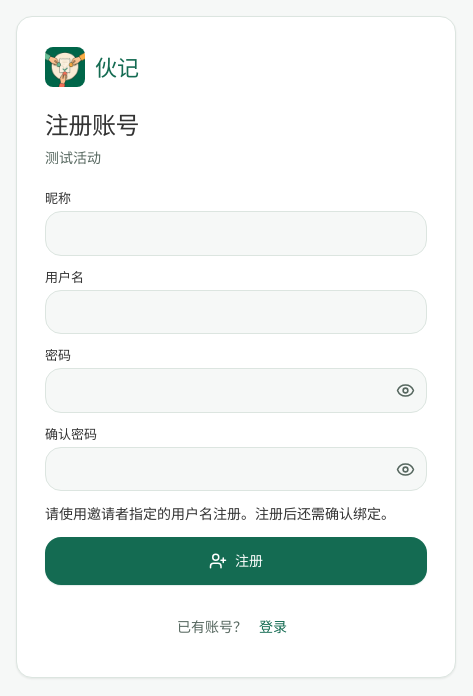
Test: 注册策略与邀请续接 › 绑定邀请注册后仍由用户确认绑定
Type "新成员" into the field labelled "昵称".
click(236, 233); type("新成员")  # box [45,211,427,256]
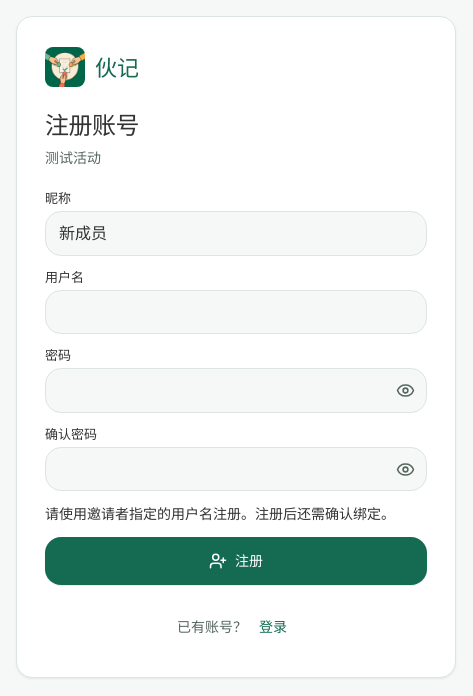
Type "new-user" into the field labelled "用户名".
click(236, 312); type("new-user")  # box [45,290,427,334]
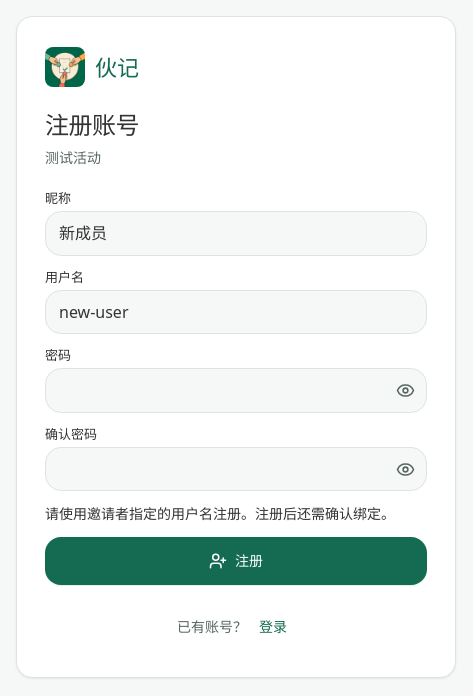
Type "password123" into the password field labelled "密码".
click(236, 391); type("password123")  # box [45,368,427,413]
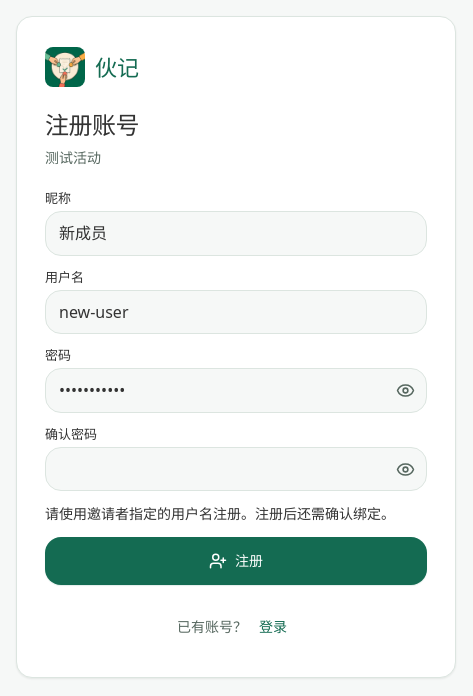
Type "password123" into the password field labelled "确认密码".
click(236, 469); type("password123")  # box [45,447,427,491]
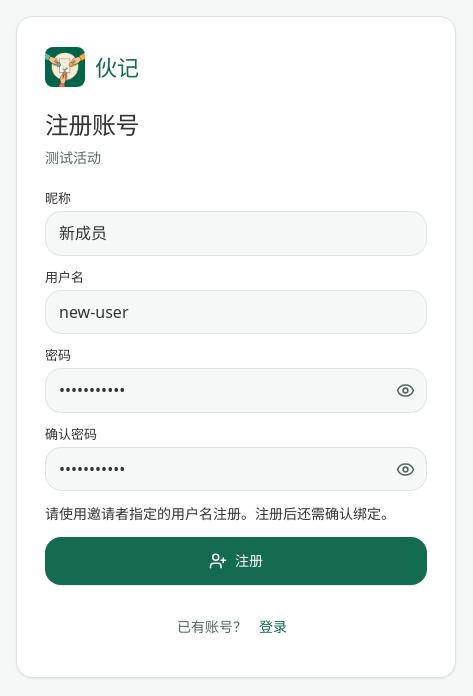
Click the button "注册".
click(236, 561)  # box [45,537,427,585]
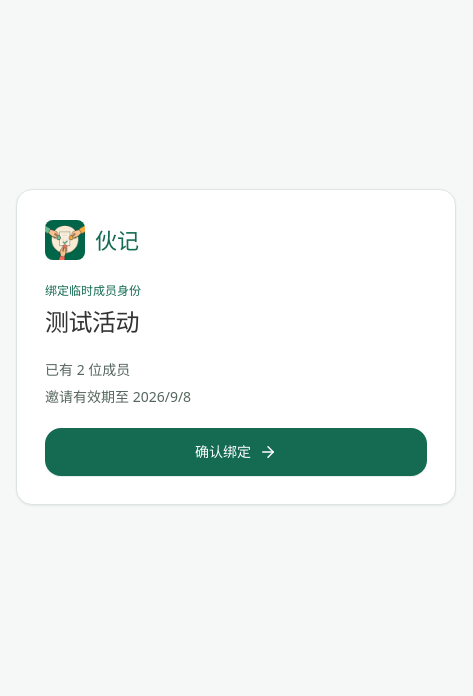
expect the button "确认绑定" is shown: met, box [45,428,427,476]
